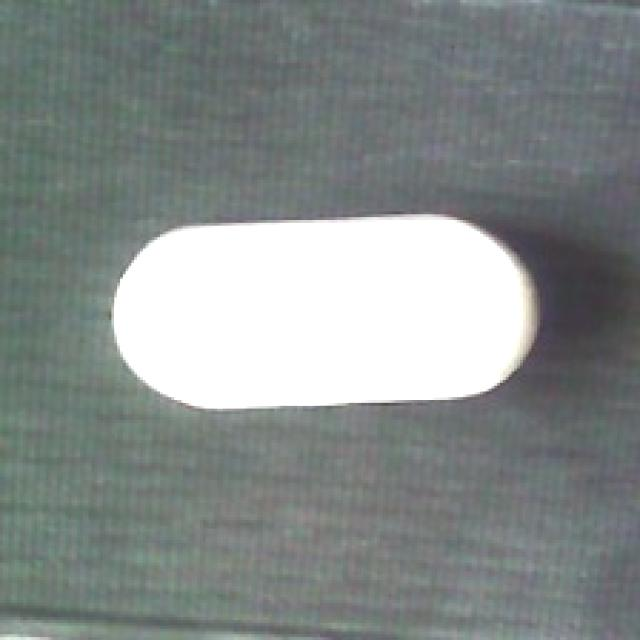no-defect: (108, 214, 543, 414)
